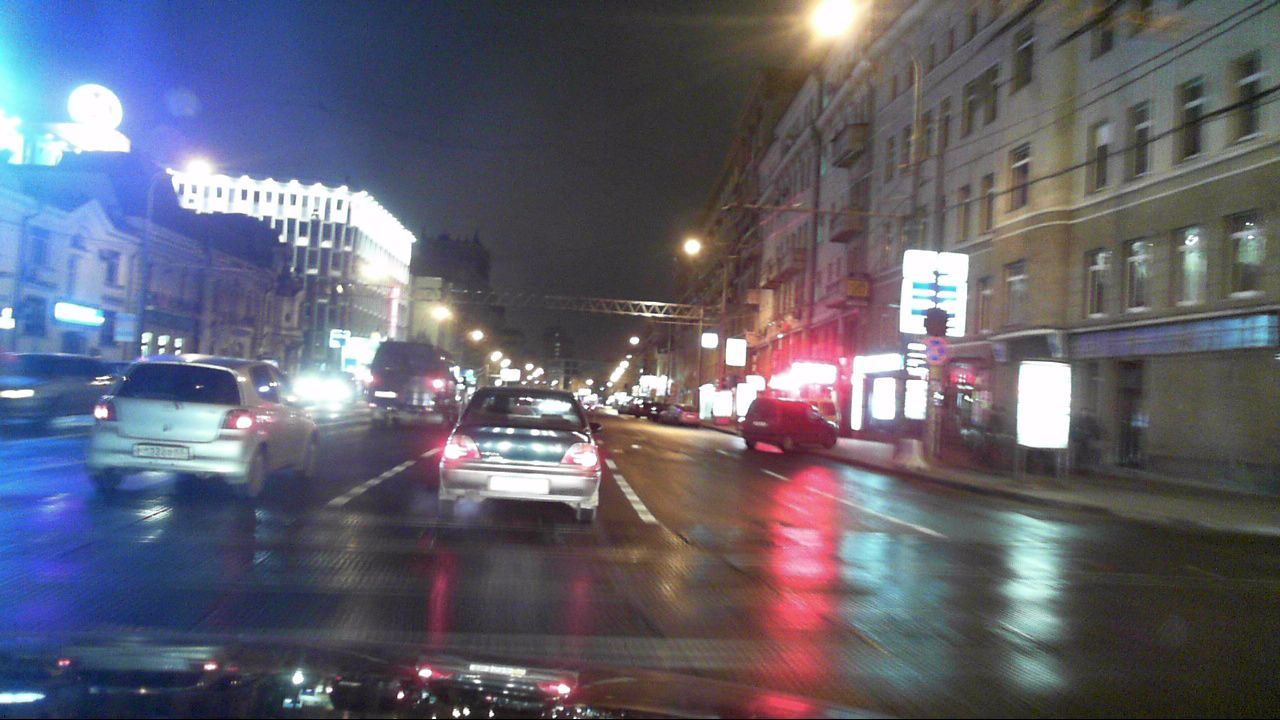No Parking: (922, 337, 950, 367)
